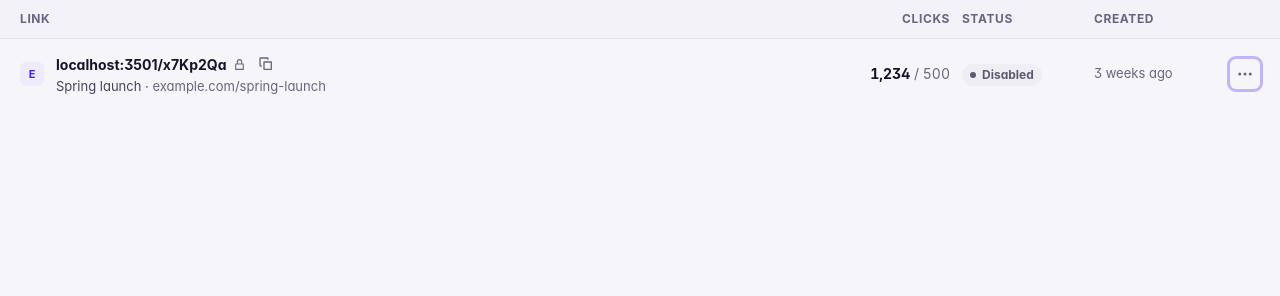
Test: LinkTable › opens the row menu with the keyboard and offers enable for disabled links
This screenshot has width=1280, height=296.
Press Arrowdown
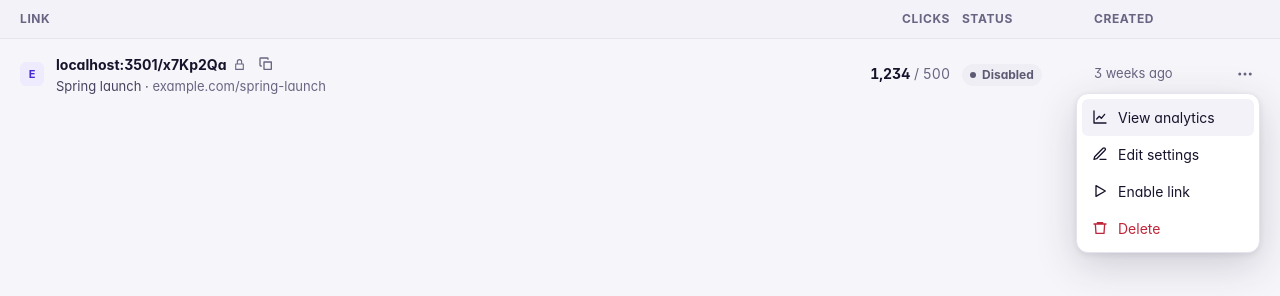
Expected: the menu is shown, [1076, 93, 1260, 253]
Click the menu item "Enable link": (1168, 191) [1082, 173, 1254, 210]
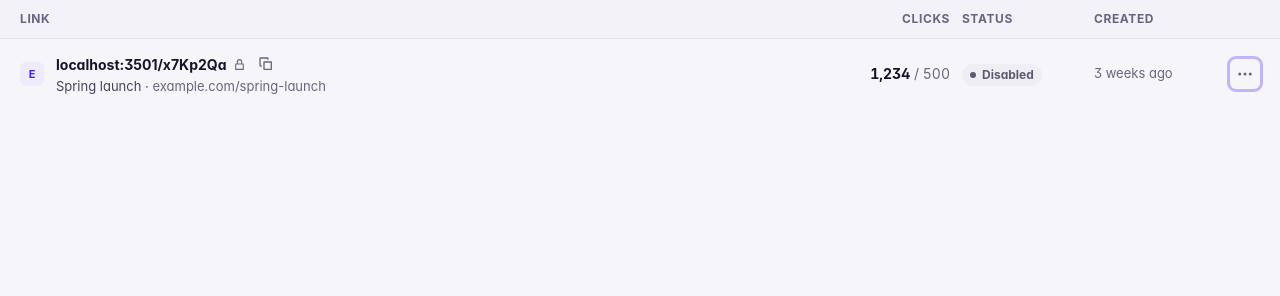
Expected: the menu is gone
